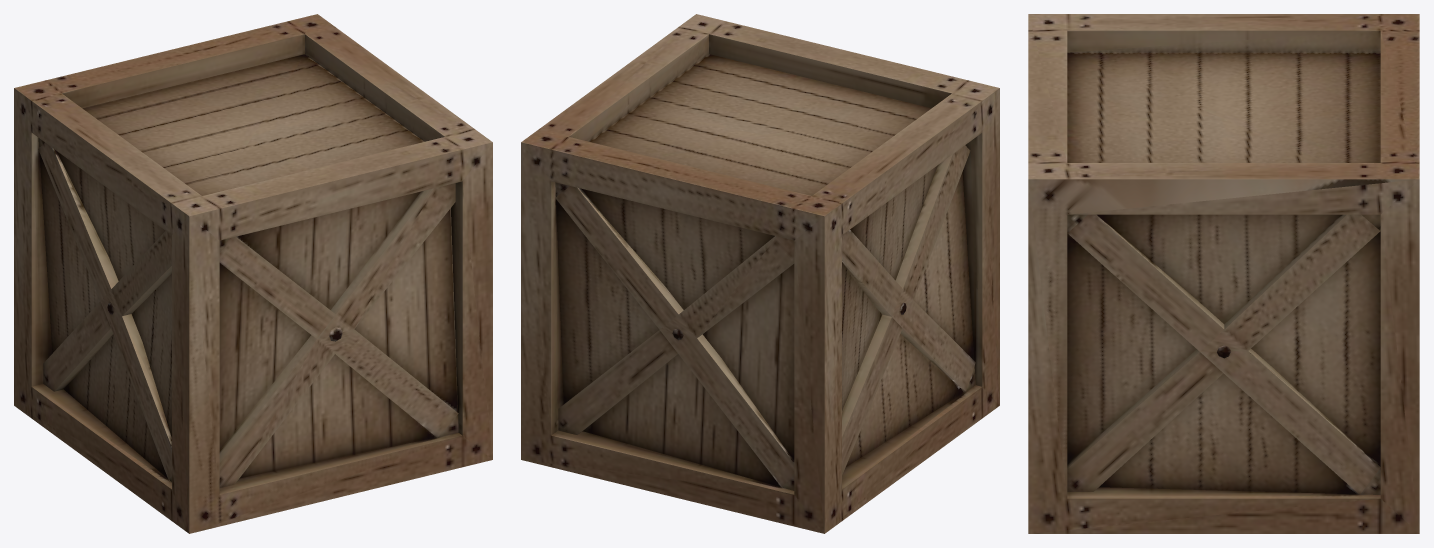
File: box coleta estrada.glb
The picture shows the model from 3 angles, left to right: view 1: azimuth 30°, elevation 25°; view 2: azimuth 150°, elevation 25°; view 3: azimuth 270°, elevation 25°; orthographic projection. The views are drawn at different scales.
Visible parts, largest first — view 1: crate_visual; view 2: crate_visual; view 3: crate_visual.
Boxes of the visible parts, x1,y1,x2,y2 form: crate_visual: [14, 14, 492, 533]; crate_visual: [521, 14, 999, 533]; crate_visual: [1028, 14, 1419, 533].
Size of what is drawn, in the model's own units: 0.998 by 0.998 by 0.998.
1 material, 1 textured.
